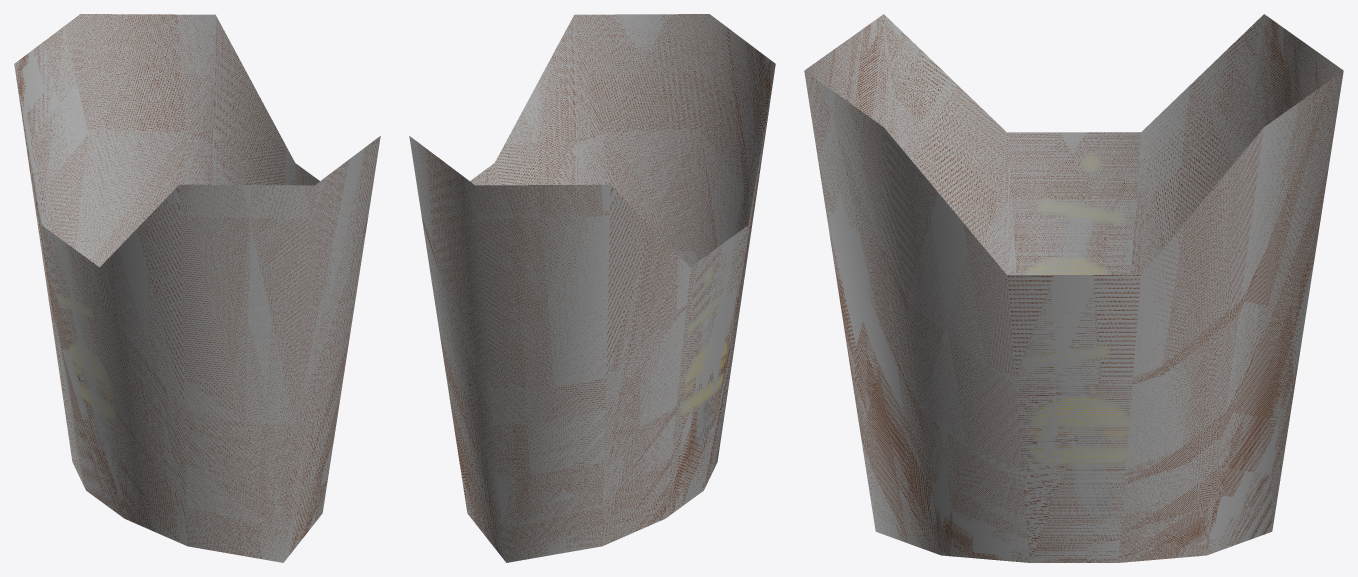
Rendered from packaging_fries.fbx.
3 views of the same model, side by side, from view 1: azimuth 30°, elevation 25°; view 2: azimuth 150°, elevation 25°; view 3: azimuth 270°, elevation 25° (orthographic). The views are drawn at different scales.
Parts seen in each view (by area): view 1: packaging_fries; view 2: packaging_fries; view 3: packaging_fries.
Boxes of the visible parts, x1=… form: packaging_fries: x1=14, y1=14, x2=380, y2=562; packaging_fries: x1=409, y1=14, x2=775, y2=562; packaging_fries: x1=804, y1=14, x2=1343, y2=562.
Size of the model in its own units: 6.26 by 9.43 by 10.
Materials: 1 (1 with a texture image).
